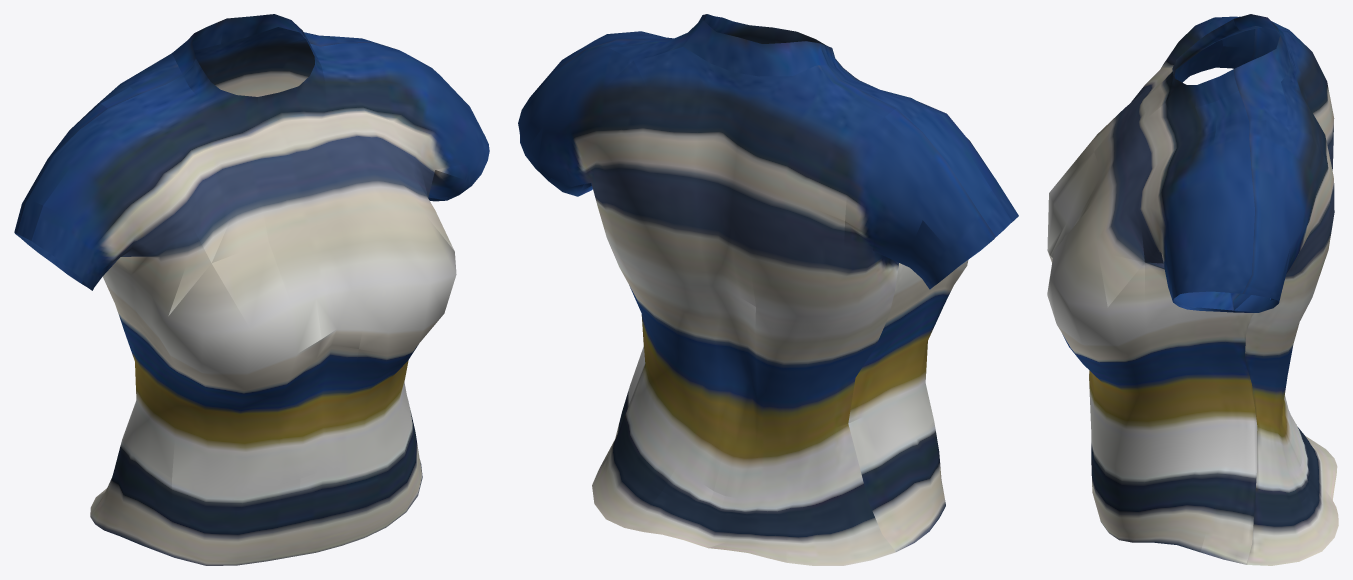
Rendered from TXS_SMF.dae.
3 views of the same model, side by side, from view 1: azimuth 30°, elevation 25°; view 2: azimuth 150°, elevation 25°; view 3: azimuth 270°, elevation 25° (orthographic). The views are drawn at different scales.
Visible parts, largest first — view 1: TS; view 2: TS; view 3: TS.
Part boxes in pixels (x1=…): TS: x1=14, y1=14, x2=489, y2=565; TS: x1=518, y1=14, x2=1018, y2=565; TS: x1=1047, y1=14, x2=1338, y2=565.
Size of the model in its own units: 4.93 by 4.86 by 2.76.
